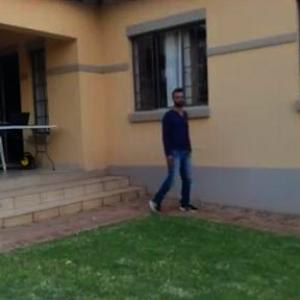follow: (155, 81, 197, 219)
